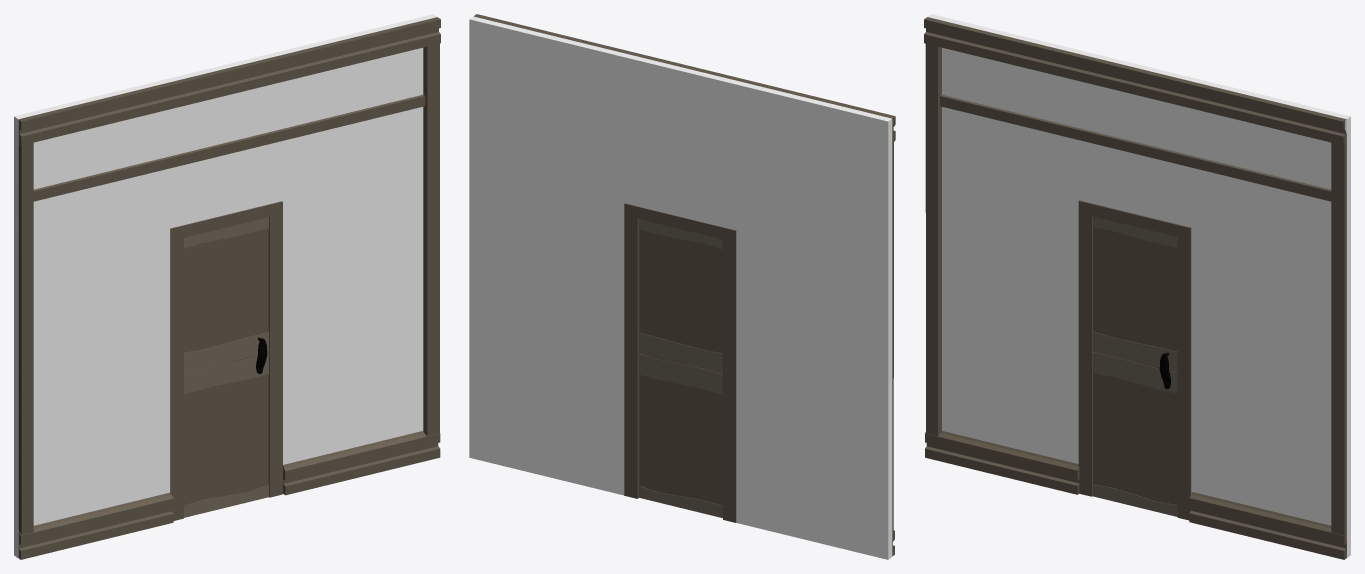
File: DOOR_05_1.fbx
The picture shows the model from 3 angles, left to right: view 1: azimuth 30°, elevation 25°; view 2: azimuth 150°, elevation 25°; view 3: azimuth 330°, elevation 25°; orthographic projection.
Parts seen in each view (by area): view 1: DOOR_05_1; view 2: DOOR_05_1; view 3: DOOR_05_1.
Part boxes in pixels (bbox=[...]): DOOR_05_1: bbox=[14, 14, 440, 559]; DOOR_05_1: bbox=[469, 14, 895, 559]; DOOR_05_1: bbox=[924, 14, 1350, 559].
Size of the model in its own units: 300 by 300 by 10.82.
